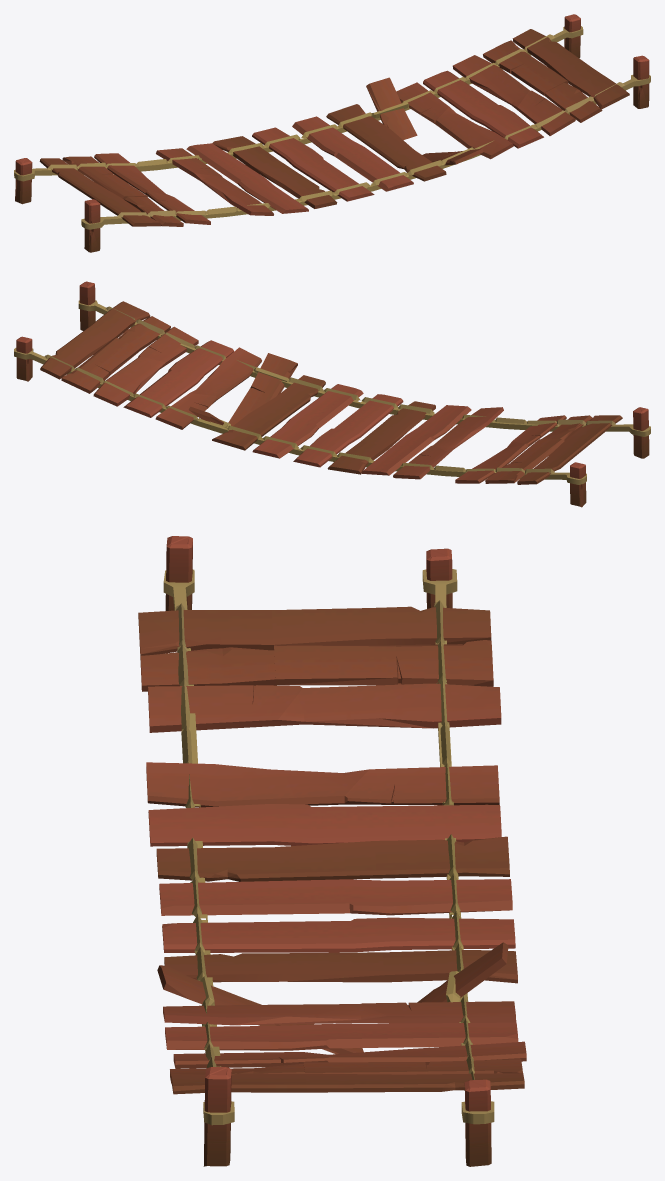
The picture shows the model from 3 angles, top to bottom: view 1: azimuth 30°, elevation 25°; view 2: azimuth 150°, elevation 25°; view 3: azimuth 270°, elevation 25°; orthographic projection. The views are drawn at different scales.
Parts seen in each view (by area): view 1: HangingBridge; view 2: HangingBridge; view 3: HangingBridge.
Part boxes in pixels (box(x1,y1,x2,y2)): HangingBridge: box(14, 14, 650, 252); HangingBridge: box(14, 281, 650, 507); HangingBridge: box(138, 536, 526, 1166).
Bounding box in the file's own units: 400 × 57.64 × 120.
Materials: 1 (1 with a texture image).
